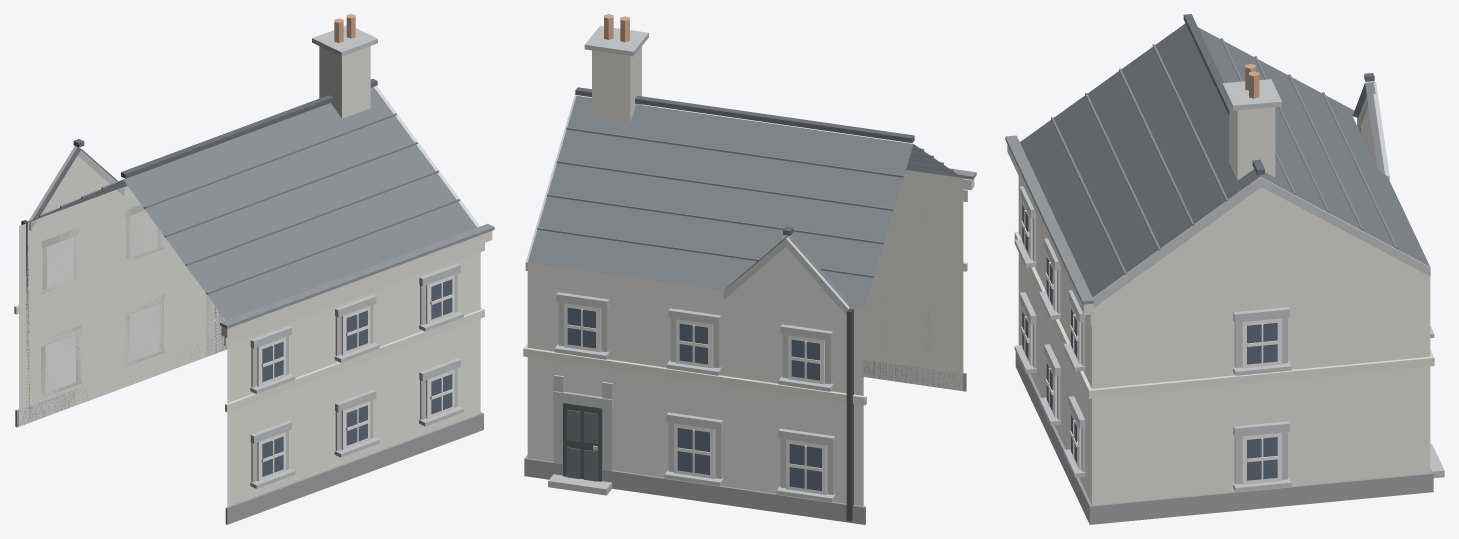
3 renders of one model, left to right at view 1: azimuth 30°, elevation 25°; view 2: azimuth 150°, elevation 25°; view 3: azimuth 270°, elevation 25°, orthographic. The views are drawn at different scales.
Parts seen in each view (by area): view 1: harl, slate, stone_band, frame, string, plinth, slate_lt, chim_render, lead, slate_dk, window_glass_009, window_glass_008 (+4 smaller); view 2: harl, slate, stone_band, plinth, frame, slate_lt, string, chim_render, slate_dk, door_dark_p, pipe, door_dark (+5 smaller); view 3: harl, slate, stone_band, plinth, string, slate_lt, frame, chim_render, lead, slate_dk, window_glass_012, window_glass_013.
Boxes of the visible parts, x1,y1,x2,y2 form: harl: (19, 155, 480, 506); slate: (22, 87, 476, 320); stone_band: (28, 25, 479, 488); frame: (45, 211, 454, 481); string: (14, 231, 492, 412); plinth: (15, 336, 483, 524); slate_lt: (39, 107, 459, 294); chim_render: (319, 46, 370, 118); lead: (220, 223, 494, 328); slate_dk: (73, 79, 377, 178); window_glass_009: (346, 310, 367, 350); window_glass_008: (346, 405, 367, 445); harl: (527, 170, 963, 505); slate: (528, 96, 962, 310); stone_band: (525, 26, 931, 502); plinth: (524, 360, 966, 524); frame: (564, 211, 924, 494); slate_lt: (537, 127, 953, 277); string: (523, 173, 974, 405); chim_render: (592, 46, 641, 122); slate_dk: (575, 87, 914, 235); door_dark_p: (566, 409, 597, 481); pipe: (846, 308, 853, 521); door_dark: (563, 403, 602, 481); harl: (1018, 106, 1430, 505); slate: (1020, 23, 1429, 296); stone_band: (1014, 79, 1444, 491); plinth: (1015, 352, 1433, 524); string: (1007, 145, 1434, 398); slate_lt: (1051, 38, 1397, 274); frame: (1021, 201, 1281, 484); chim_render: (1229, 103, 1275, 180); lead: (1005, 135, 1093, 304); slate_dk: (1183, 14, 1374, 174); window_glass_012: (1247, 437, 1277, 480); window_glass_013: (1247, 323, 1277, 364).
Bounding box in the file's own units: 10.22 × 10.27 × 9.77.
